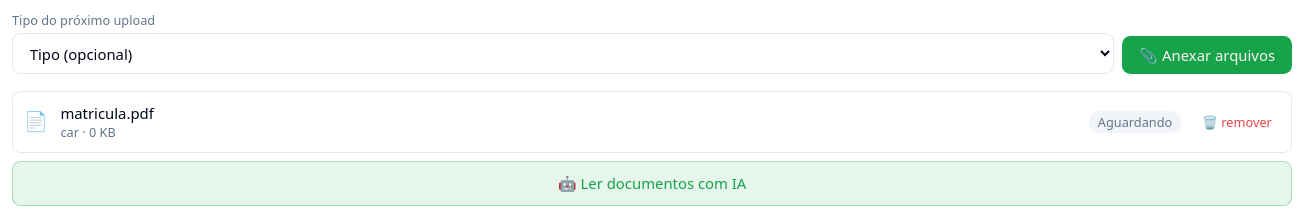
DraftDocumentUploader — polling pós-import (fix/intake-geo-routing) › inicia polling após import mesmo com docs em "pending" e reflete "done"
Expected: the text "Aguardando" is shown, [1089,111,1181,133]
# Dispara a leitura IA — backend deixa o doc 'pending' (na fila do worker).
Click the button "🤖 Ler documentos com IA": (652, 184) [12,161,1292,206]
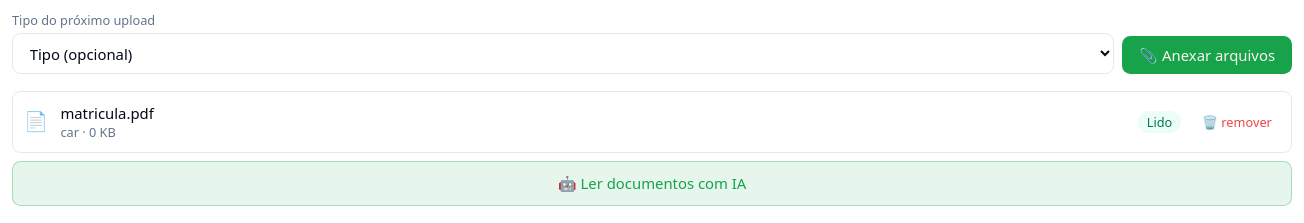
Expected: the text "Lido" is shown, [1138,111,1181,133]
